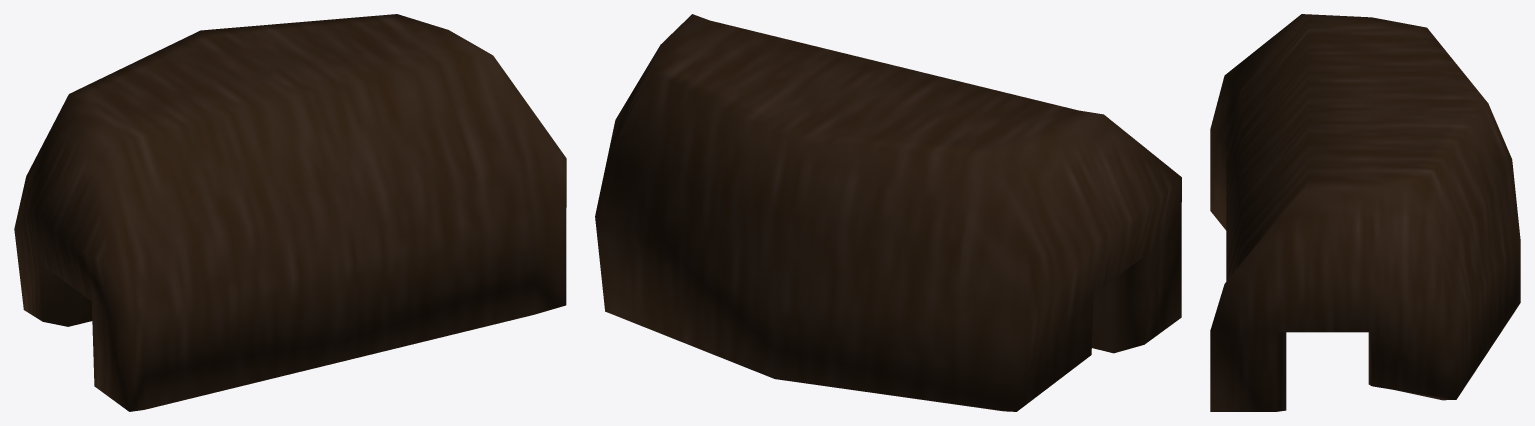
File: the_apex.glb
3 renders of one model, left to right at view 1: azimuth 30°, elevation 25°; view 2: azimuth 150°, elevation 25°; view 3: azimuth 270°, elevation 25°, orthographic. The views are drawn at different scales.
Parts seen in each view (by area): view 1: The Apex; view 2: The Apex; view 3: The Apex.
Boxes of the visible parts, x1,y1,x2,y2 form: The Apex: [14, 14, 566, 411]; The Apex: [595, 14, 1181, 411]; The Apex: [1210, 14, 1520, 411].
Size of the model in its own units: 0.2698 by 0.1281 by 0.1648.
Materials: 1 (1 with a texture image).
